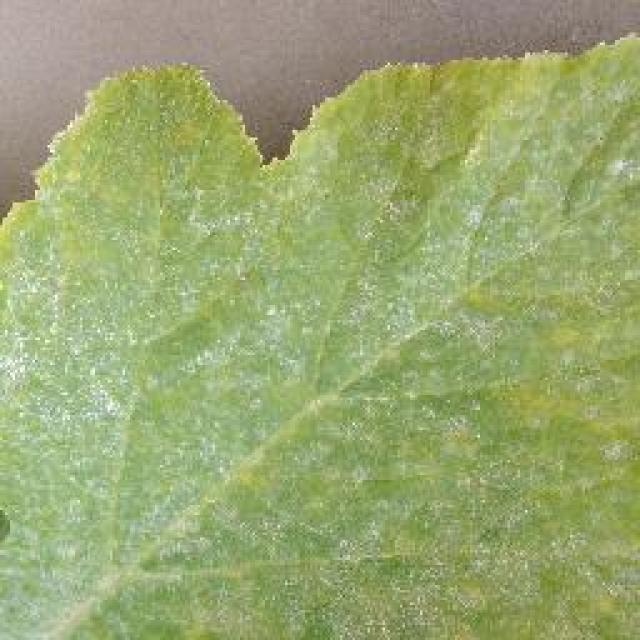Squ_Powdery_mildew: (38, 165, 560, 640)
